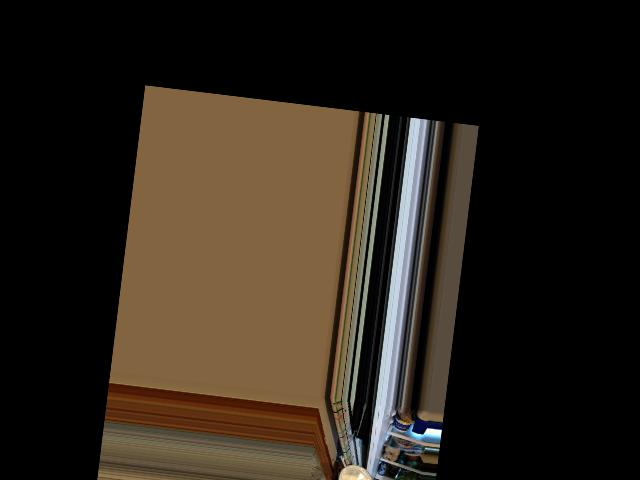cotage: (331, 459, 371, 480)
